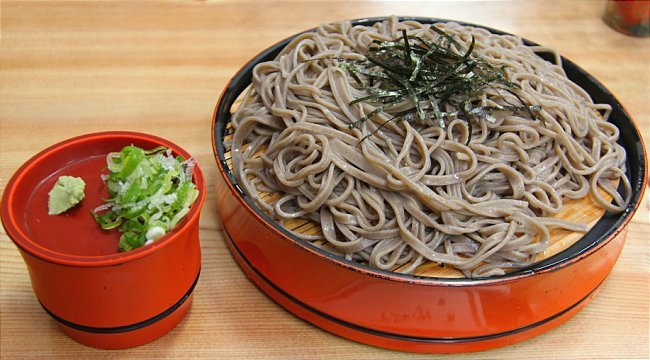Soba: (234, 17, 632, 273)
